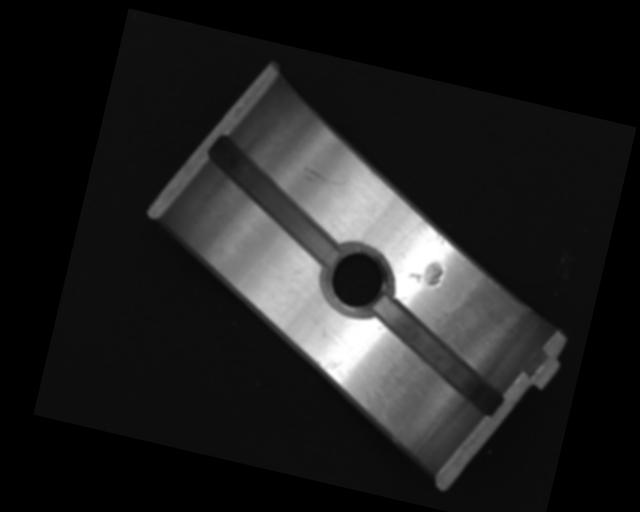bruise: (406, 255, 446, 289)
gap: (193, 133, 357, 268), (357, 294, 520, 416)
hole: (318, 237, 397, 322)
nick: (299, 164, 351, 193)
